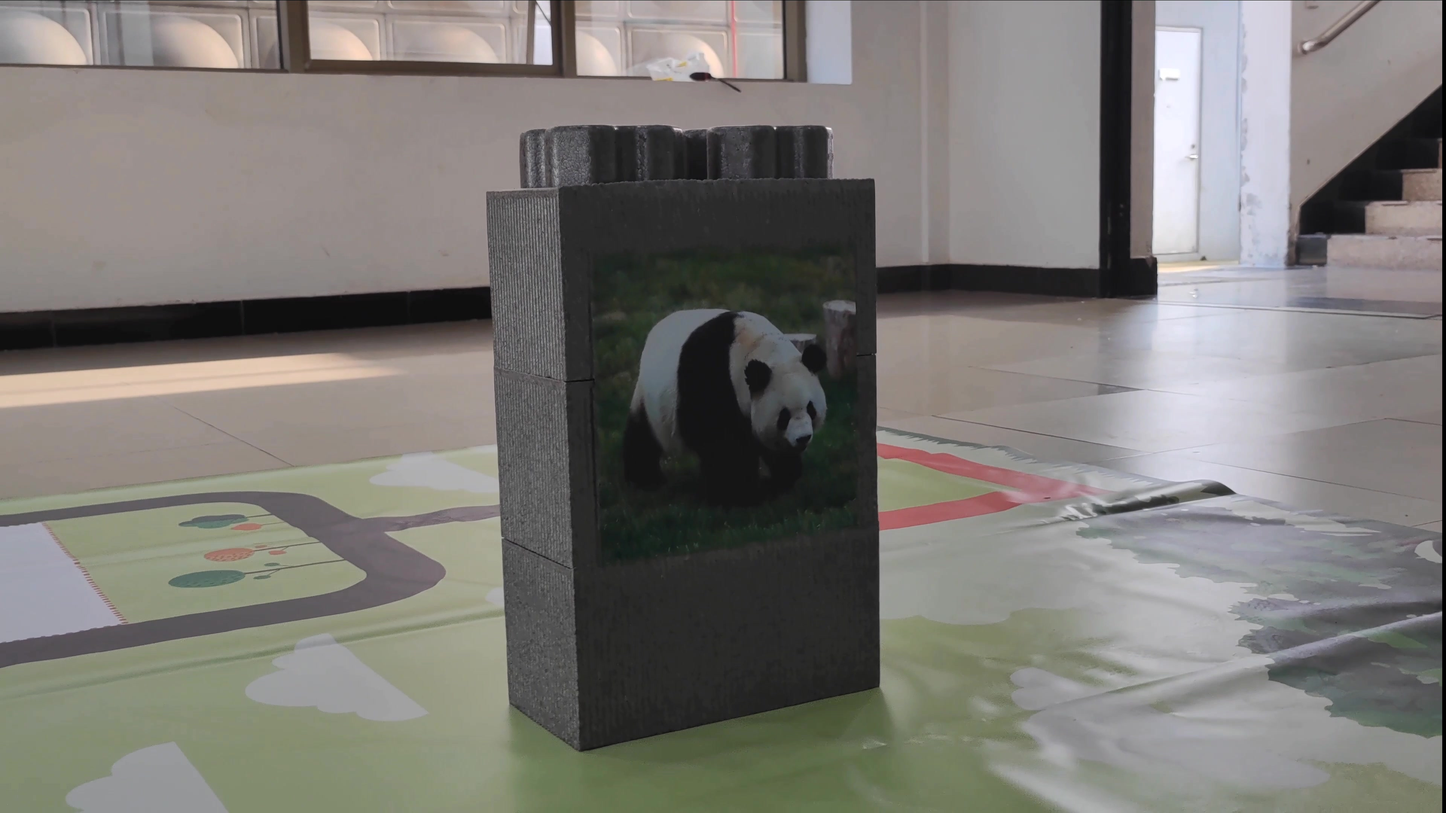panda: (619, 285, 842, 520)
